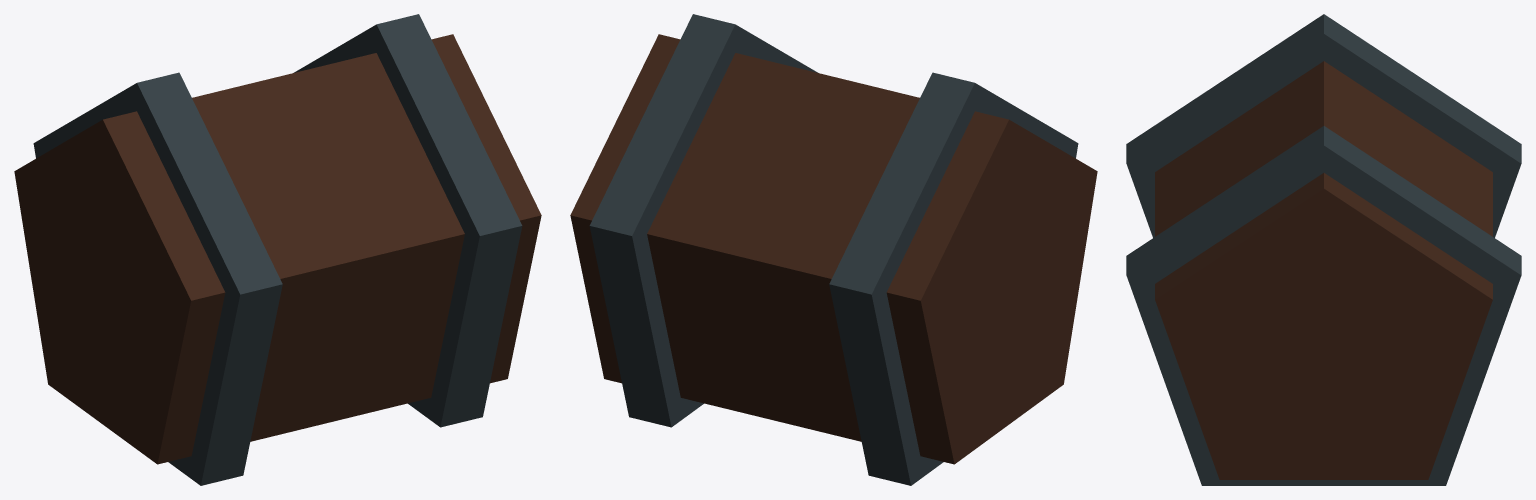
The model's file is machine_tank.fbx.
The picture shows the model from 3 angles, left to right: view 1: azimuth 30°, elevation 25°; view 2: azimuth 150°, elevation 25°; view 3: azimuth 270°, elevation 25°; orthographic projection. The views are drawn at different scales.
Visible parts, largest first — view 1: Circle.003; view 2: Circle.003; view 3: Circle.003.
Part boxes in pixels (x1,y1,x2,y2): Circle.003: (14,14,541,485); Circle.003: (570,14,1097,485); Circle.003: (1126,14,1521,485).
Size of the model in its own units: 6.53 by 6.34 by 6.67.
